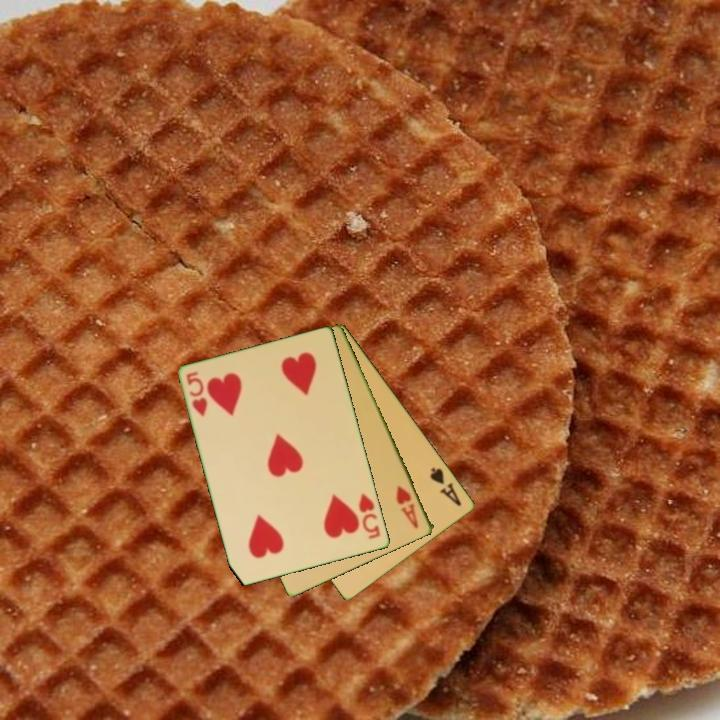5h: (355, 490, 384, 542), (183, 368, 211, 420)
Ah: (393, 482, 422, 532)
As: (427, 464, 465, 509)
